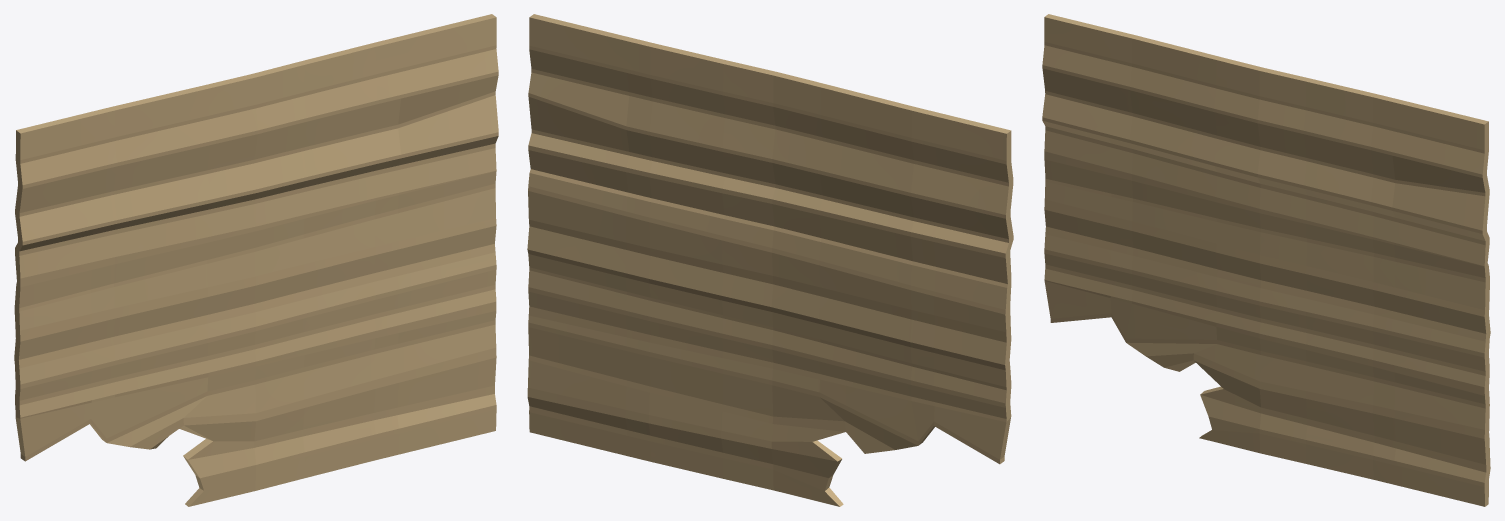
The model's file is garage_door_B.glb.
3 views of the same model, side by side, from view 1: azimuth 30°, elevation 25°; view 2: azimuth 150°, elevation 25°; view 3: azimuth 330°, elevation 25° (orthographic). The views are drawn at different scales.
Parts seen in each view (by area): view 1: garage_door_B; view 2: garage_door_B; view 3: garage_door_B.
Part boxes in pixels (<box>): garage_door_B: <box>14,14,498,506</box>; garage_door_B: <box>527,14,1013,506</box>; garage_door_B: <box>1042,14,1490,506</box>.
Bounding box in the file's own units: 2.91 × 2.42 × 0.1071.
Materials: 1 (1 with a texture image).
